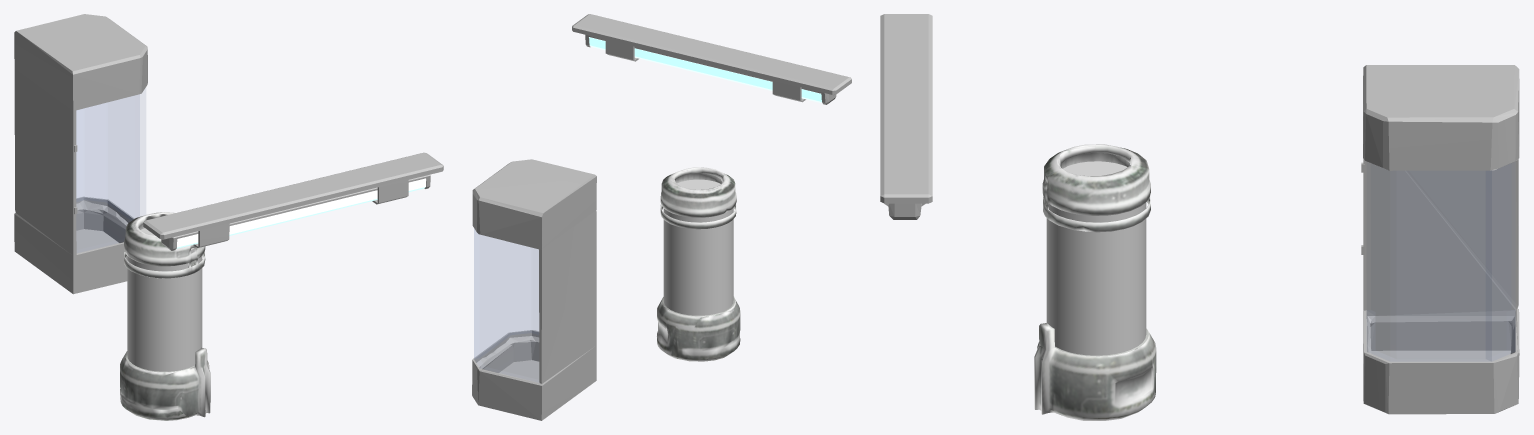
The model's file is CyberProps.fbx.
3 views of the same model, side by side, from view 1: azimuth 30°, elevation 25°; view 2: azimuth 150°, elevation 25°; view 3: azimuth 270°, elevation 25° (orthographic). The views are drawn at different scales.
Visible parts, largest first — view 1: Cube.119, Cube.120, lp.659, Cylinder; view 2: Cube.119, Cube.120, lp.659, Cylinder; view 3: Cube.119, lp.659, Cylinder, Cube.120.
Part boxes in pixels (bbox=[...]): Cube.119: bbox=[14, 14, 147, 294]; Cube.120: bbox=[143, 152, 443, 250]; lp.659: bbox=[120, 212, 210, 420]; Cylinder: bbox=[127, 228, 202, 371]; Cube.119: bbox=[472, 159, 596, 420]; Cube.120: bbox=[572, 14, 851, 104]; lp.659: bbox=[657, 167, 740, 361]; Cylinder: bbox=[663, 179, 733, 315]; Cube.119: bbox=[1361, 65, 1519, 414]; lp.659: bbox=[1034, 144, 1156, 420]; Cylinder: bbox=[1046, 161, 1146, 355]; Cube.120: bbox=[880, 14, 932, 219].
Bounding box in the file's own units: 361 × 312 × 531.
